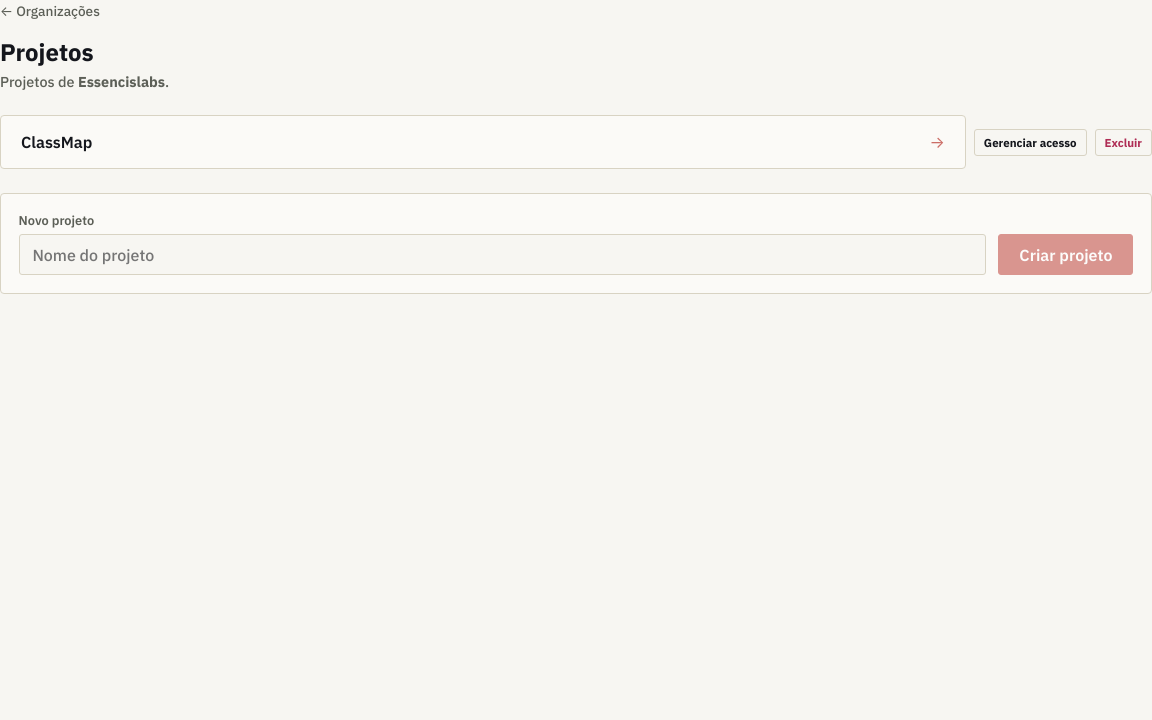
Test: ProjectsPage — exclusão (TASK-011) › CA-02: admin da organização vê "Excluir" e confirmar remove o projeto da lista
Check: the text "ClassMap" is shown, box [21,132,92,152]
Click the button "Excluir": point(1123, 142) [1094,128,1151,156]
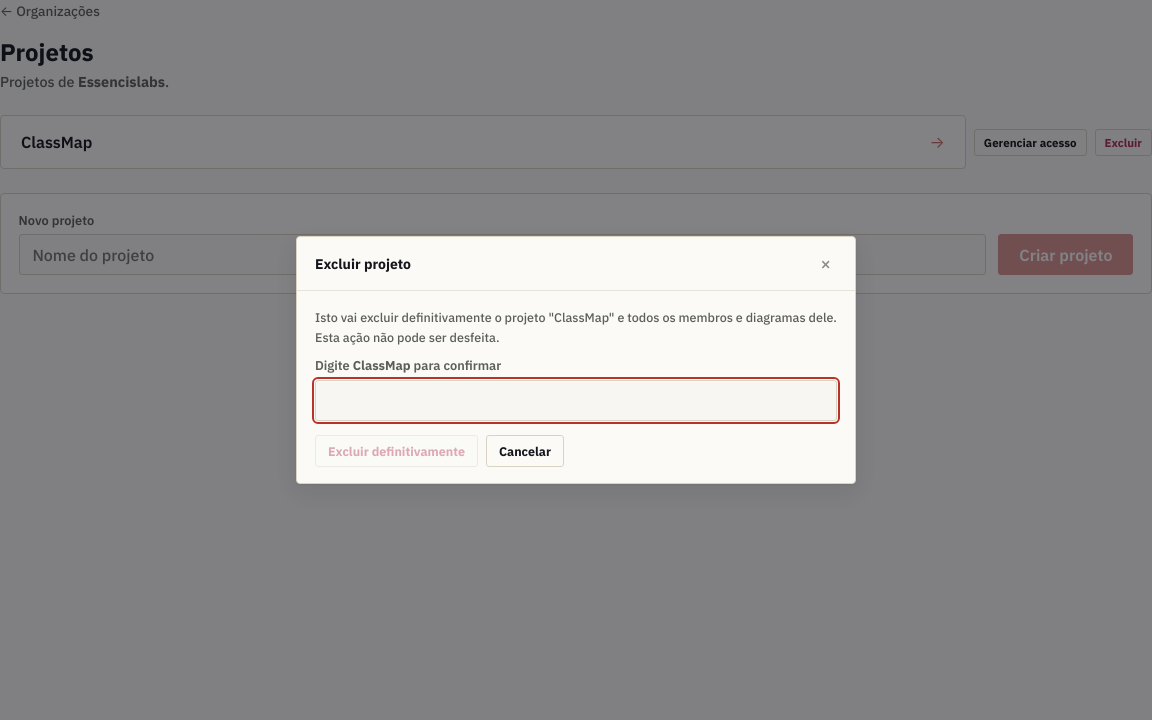
Check: the heading "Excluir projeto" is shown, box [315,255,411,273]
In the field labelled "Digite ClassMap para confirmar": point(576, 400) [315,380,837,421], type "ClassMap"
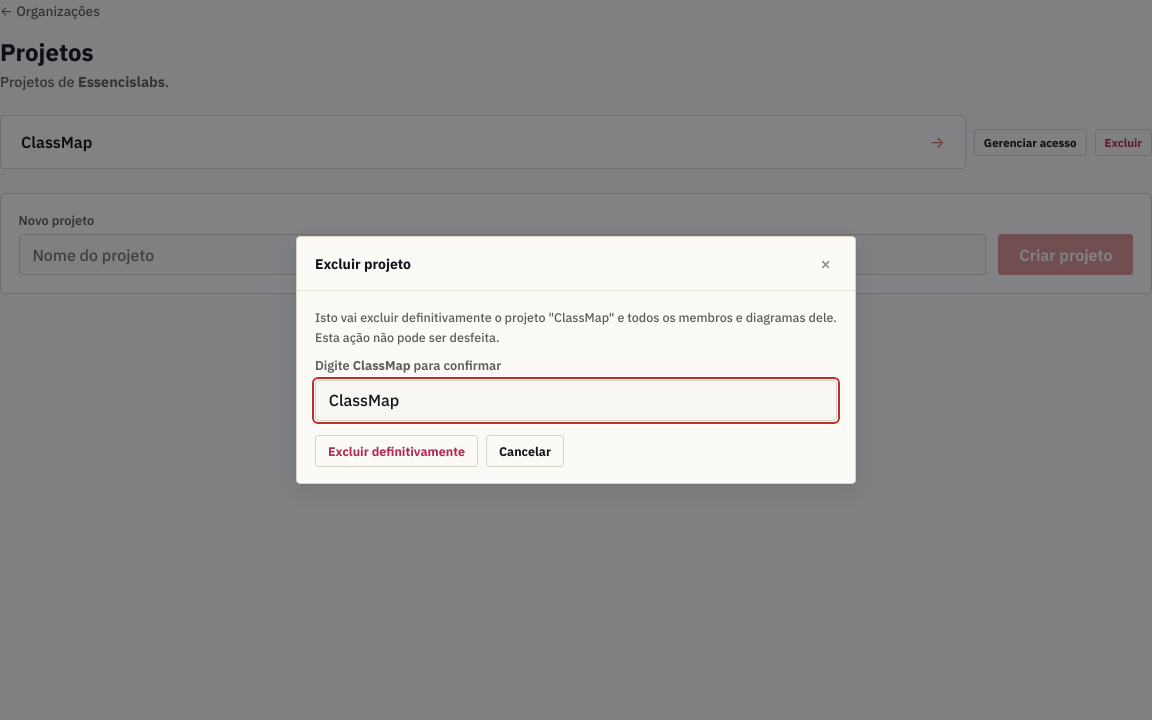
Click the button "Excluir definitivamente": point(396, 451) [315,435,478,467]
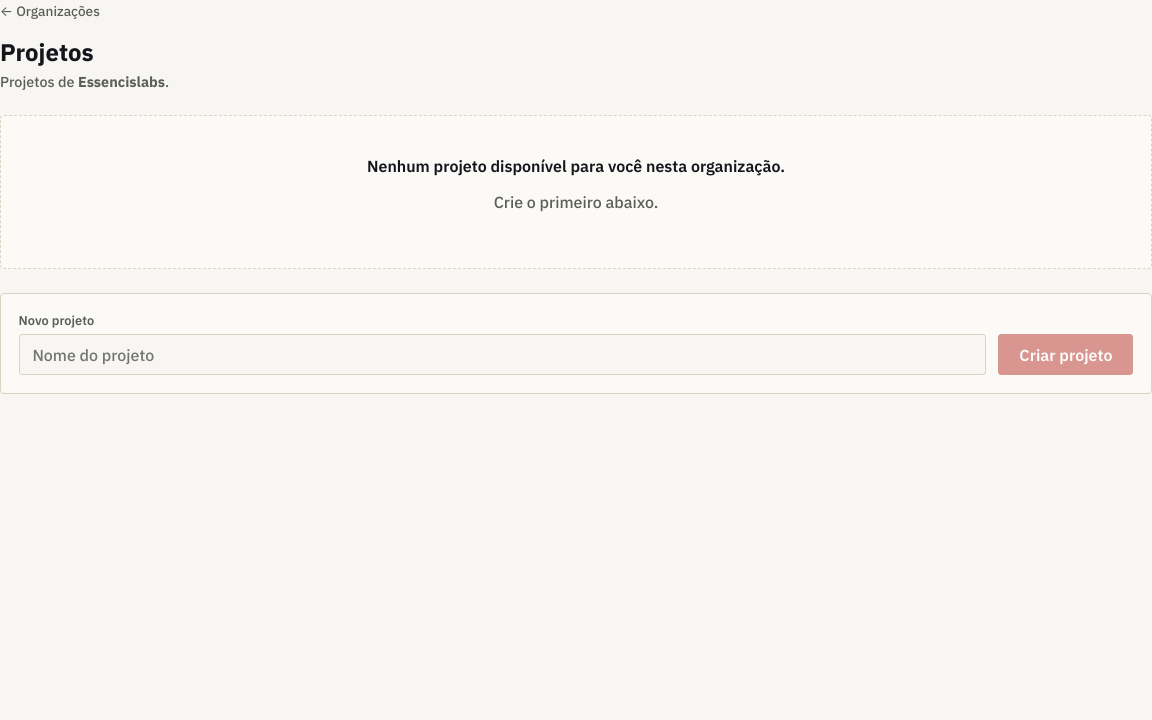
Check: the link "ClassMap" is gone
